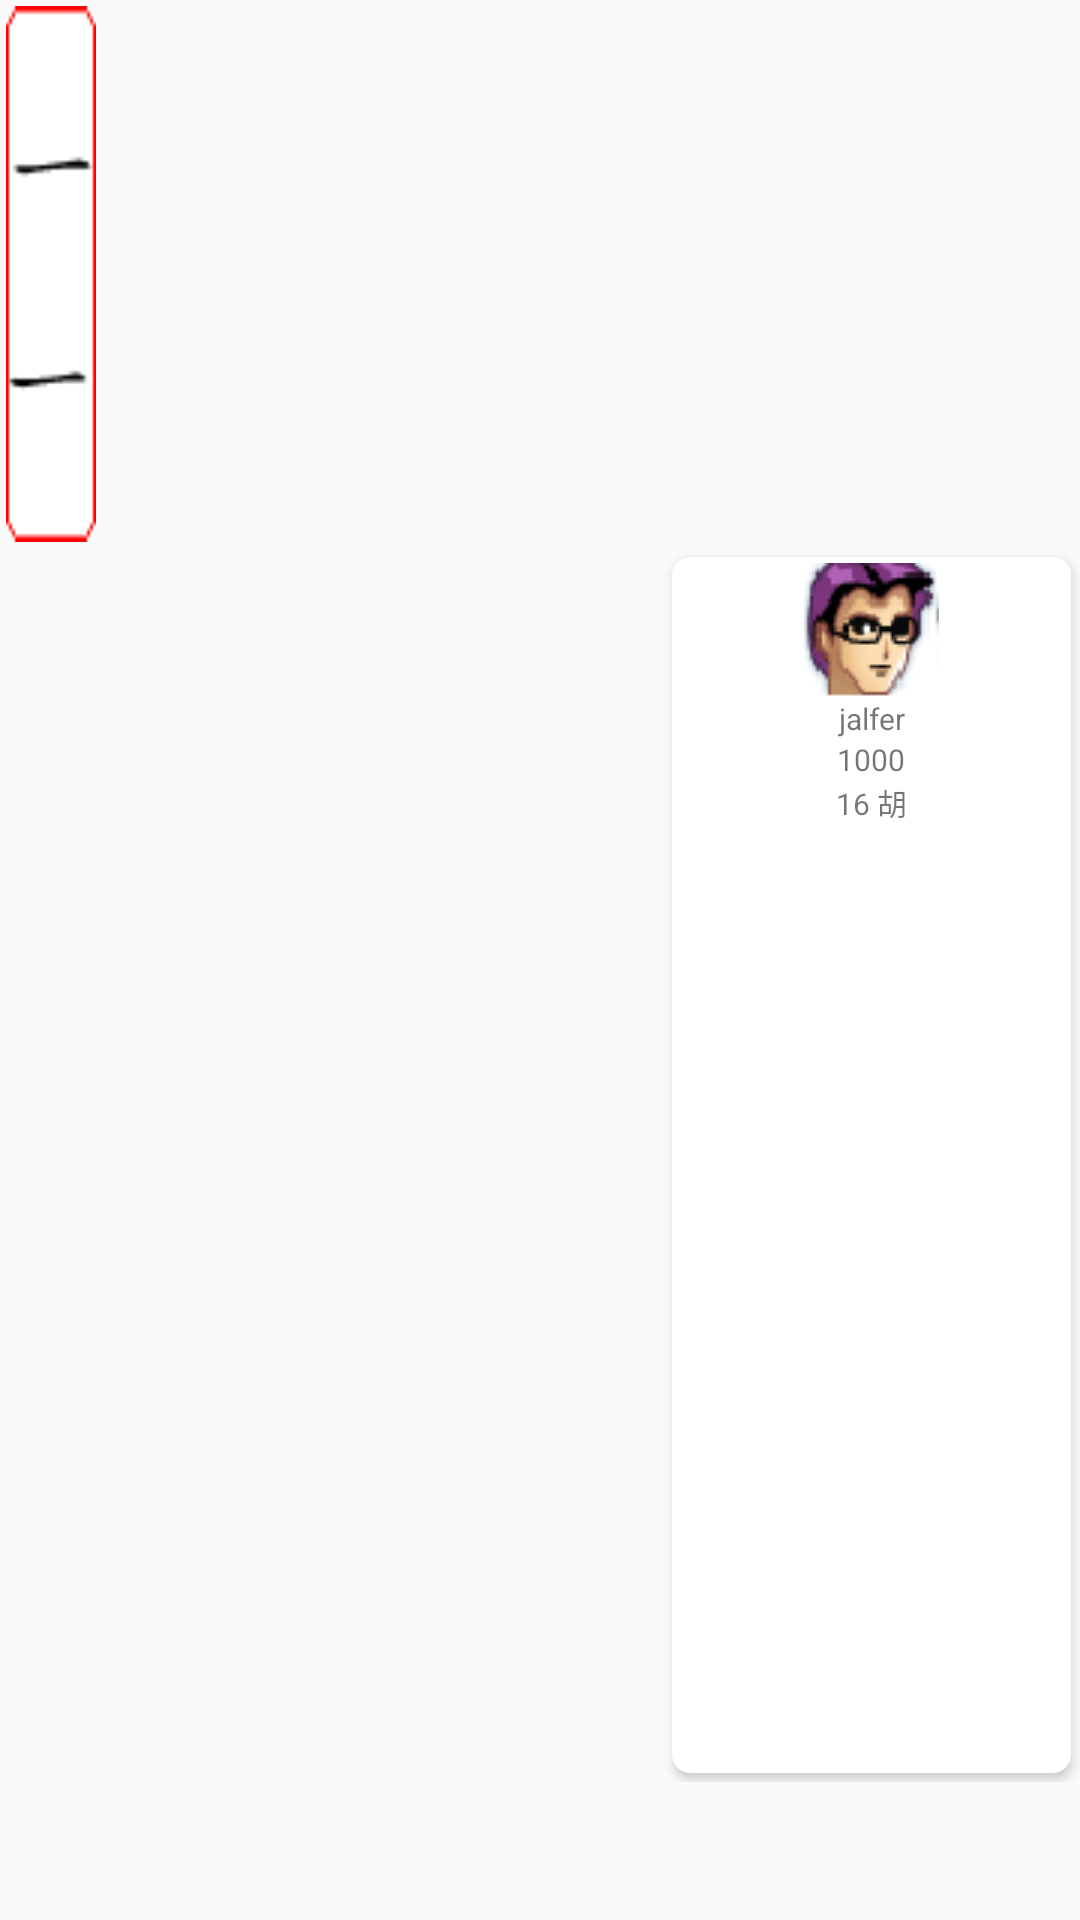

Icon bounding boxes for this 1080×1920 phone screenshot, format box=[x1, y1, x2, y2]:
head: box=[804, 563, 939, 696]
